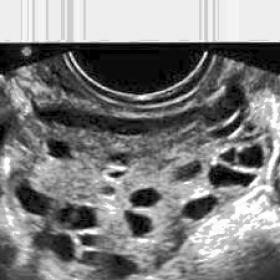-: (211, 161, 257, 190), (240, 145, 263, 170)
PCOS: (88, 251, 130, 274), (64, 203, 100, 229), (19, 185, 48, 215), (38, 234, 76, 256), (43, 138, 76, 161), (126, 211, 153, 237), (130, 189, 161, 209), (184, 202, 212, 222), (175, 163, 200, 177), (109, 166, 129, 179), (112, 151, 130, 165), (83, 237, 102, 249), (221, 150, 235, 165), (106, 186, 116, 197)
